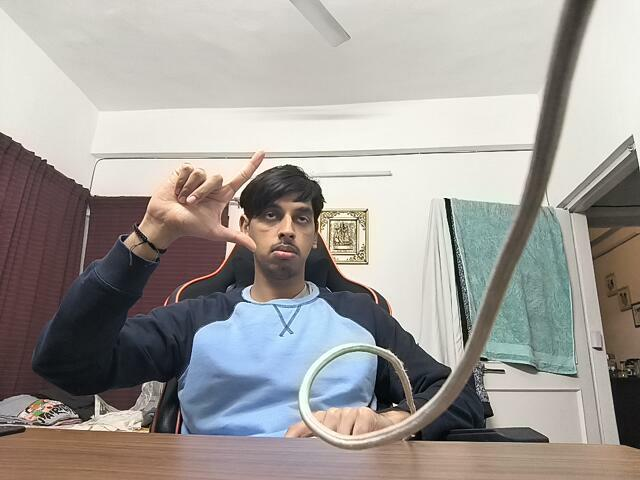UP: (140, 146, 266, 268)
